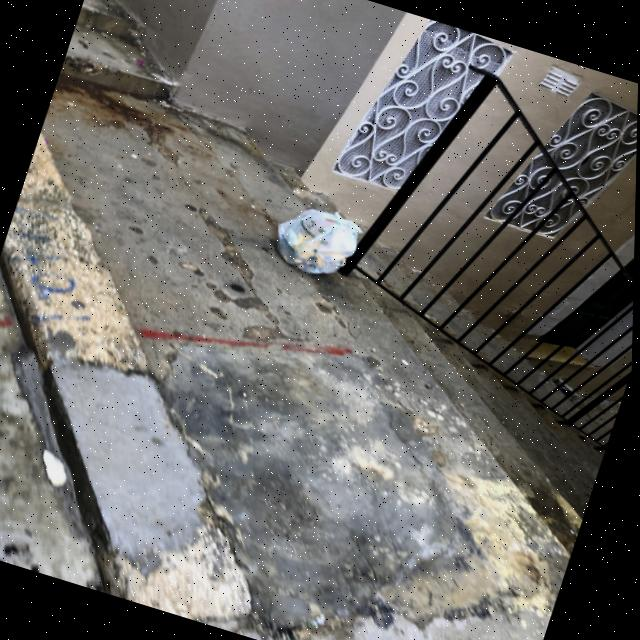Organic Waste -White Bag-: (263, 194, 377, 291)
